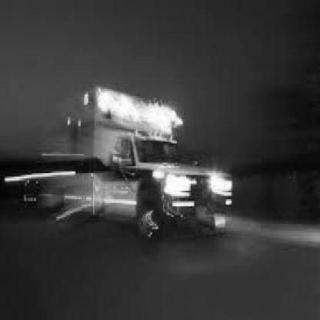other: (97, 80, 185, 152)
